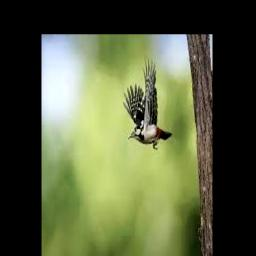Woodpecker: (122, 56, 172, 150)
